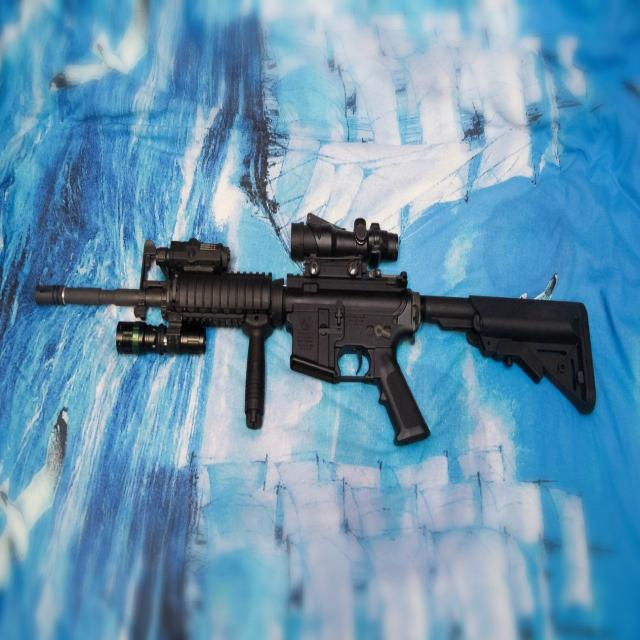firearm: (35, 210, 598, 448)
